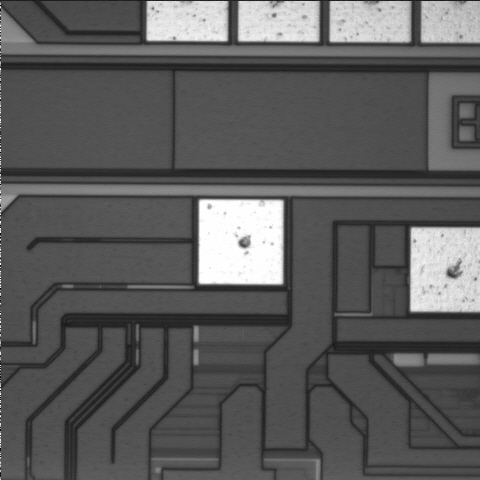pad: (199, 199, 283, 284)
